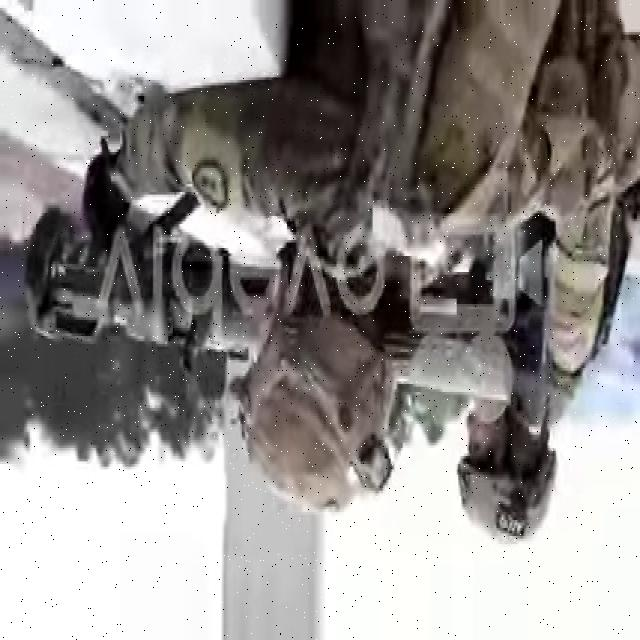bazooka: (20, 184, 552, 433)
